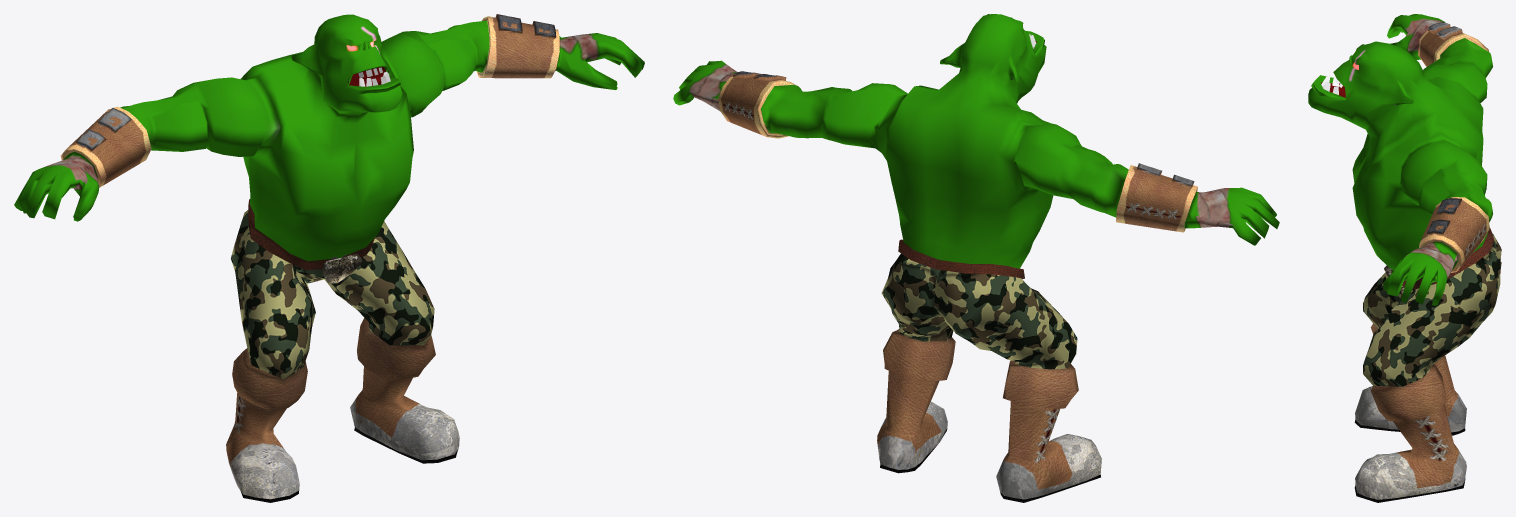
File: orc.glb
The picture shows the model from 3 angles, left to right: view 1: azimuth 30°, elevation 25°; view 2: azimuth 150°, elevation 25°; view 3: azimuth 270°, elevation 25°; orthographic projection. The views are drawn at different scales.
Visible parts, largest first — view 1: Object_2; view 2: Object_2; view 3: Object_2.
Boxes of the visible parts, x1=… form: Object_2: x1=14, y1=14, x2=644, y2=502; Object_2: x1=673, y1=14, x2=1279, y2=502; Object_2: x1=1308, y1=14, x2=1501, y2=502.
Size of the model in its own units: 230 by 162 by 68.92.
1 material, 1 textured.
